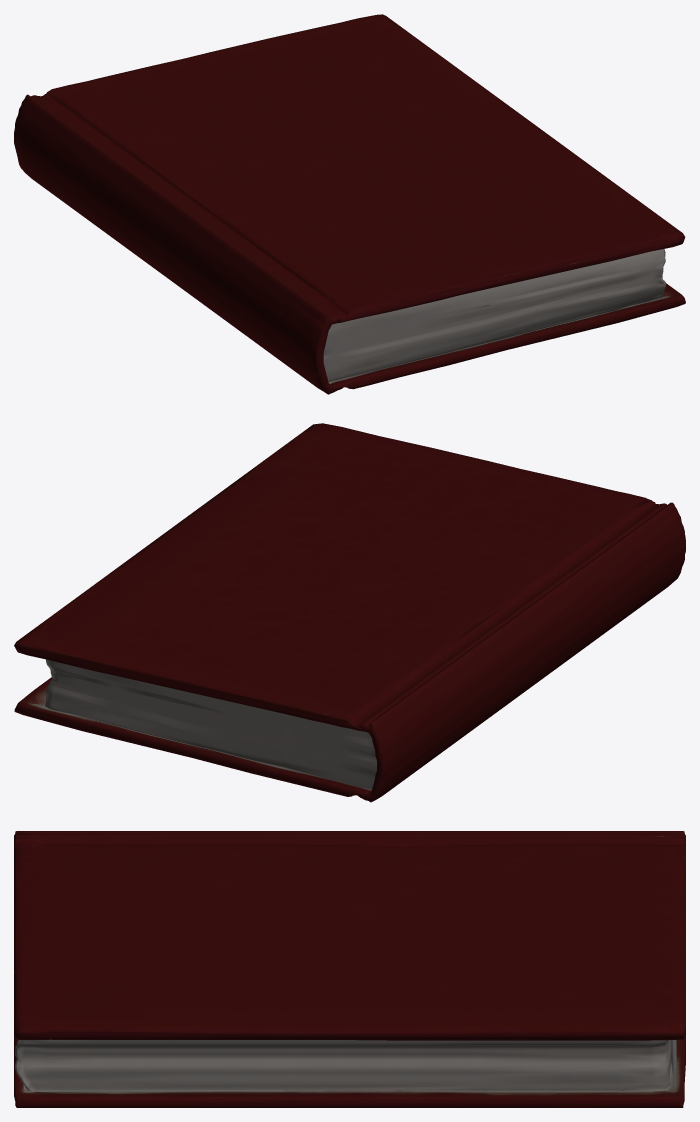
The model's file is original_glb.glb.
The picture shows the model from 3 angles, top to bottom: view 1: azimuth 30°, elevation 25°; view 2: azimuth 150°, elevation 25°; view 3: azimuth 270°, elevation 25°; orthographic projection. The views are drawn at different scales.
Visible parts, largest first — view 1: Burgundy Blank Hardcover; view 2: Burgundy Blank Hardcover; view 3: Burgundy Blank Hardcover.
Part boxes in pixels (left/top/right/bottom): Burgundy Blank Hardcover: left=14, top=14, right=685, bottom=394; Burgundy Blank Hardcover: left=14, top=423, right=685, bottom=802; Burgundy Blank Hardcover: left=14, top=831, right=685, bottom=1107.
Size of the model in its own units: 0.7051 by 0.1426 by 0.998.
Materials: 1 (1 with a texture image).
